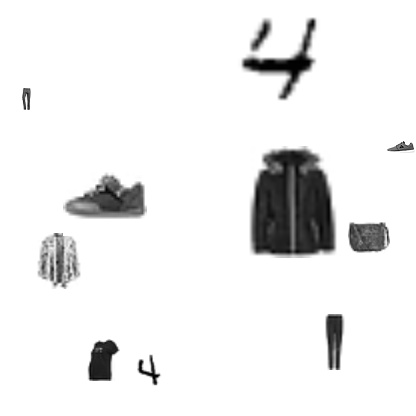4: (223, 3, 335, 115), (127, 349, 169, 391)
Bag: (348, 215, 390, 257)
Coat: (235, 146, 347, 258), (30, 233, 86, 289)
Sneaker: (63, 152, 147, 236), (387, 133, 415, 161)
T-shirt/top: (82, 339, 124, 381)
Trouser: (306, 314, 362, 370), (15, 88, 37, 110)
